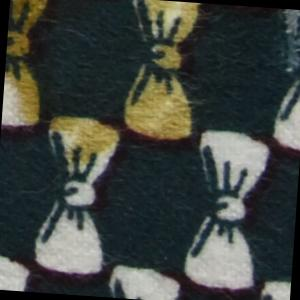Damage: (271, 9, 300, 78)
Stain: (1, 1, 214, 181)
